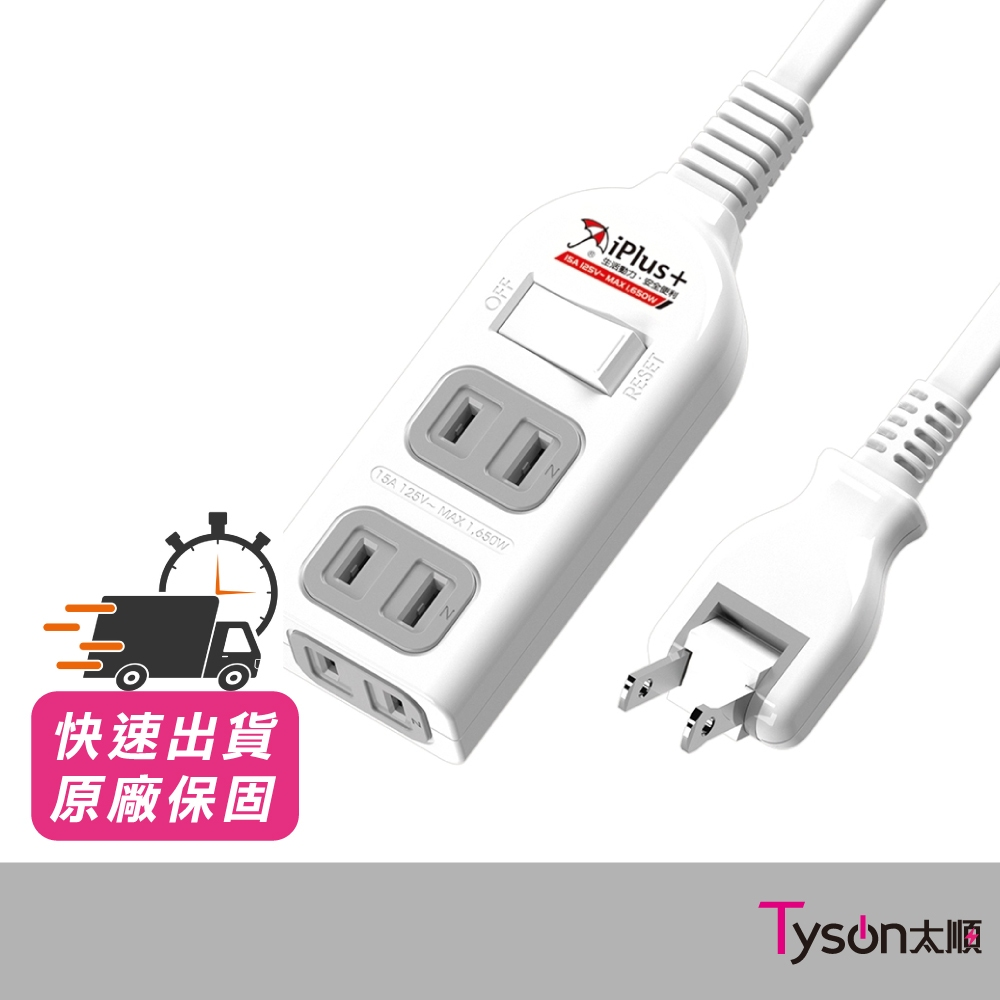socket: (268, 73, 813, 768)
